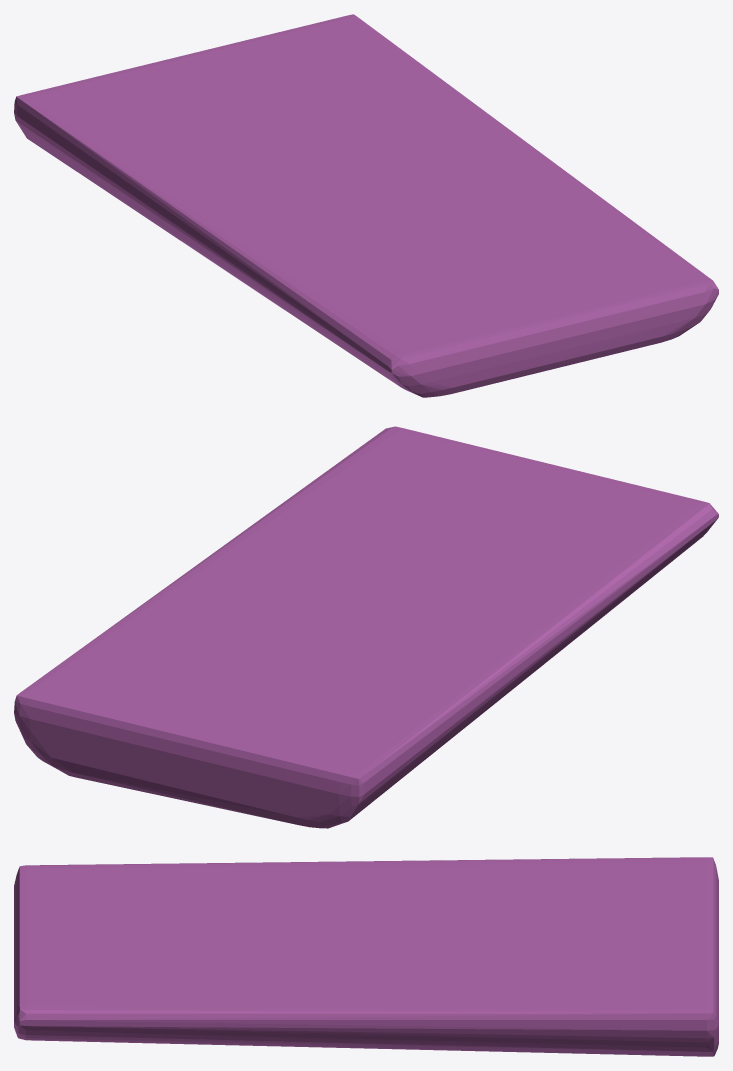
Rendered from left_hip_pitch_link_part_7.obj.
3 views of the same model, one above another, from view 1: azimuth 30°, elevation 25°; view 2: azimuth 150°, elevation 25°; view 3: azimuth 270°, elevation 25° (orthographic). The views are drawn at different scales.
Bounding box in the file's own units: 0.0687 × 0.0128 × 0.129.
